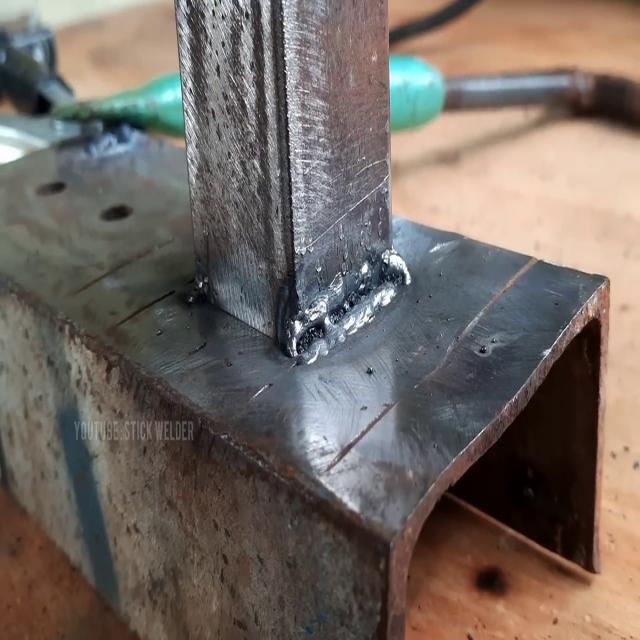Bad Weld: (284, 240, 412, 362)
Defect: (328, 287, 364, 325), (296, 316, 325, 356)
